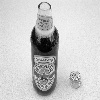beer: (31, 1, 61, 100)
